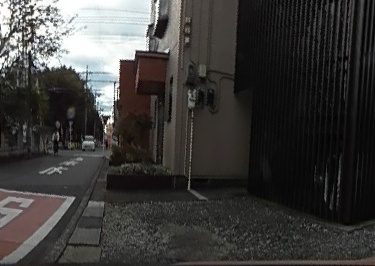person: (51, 129, 60, 149)
